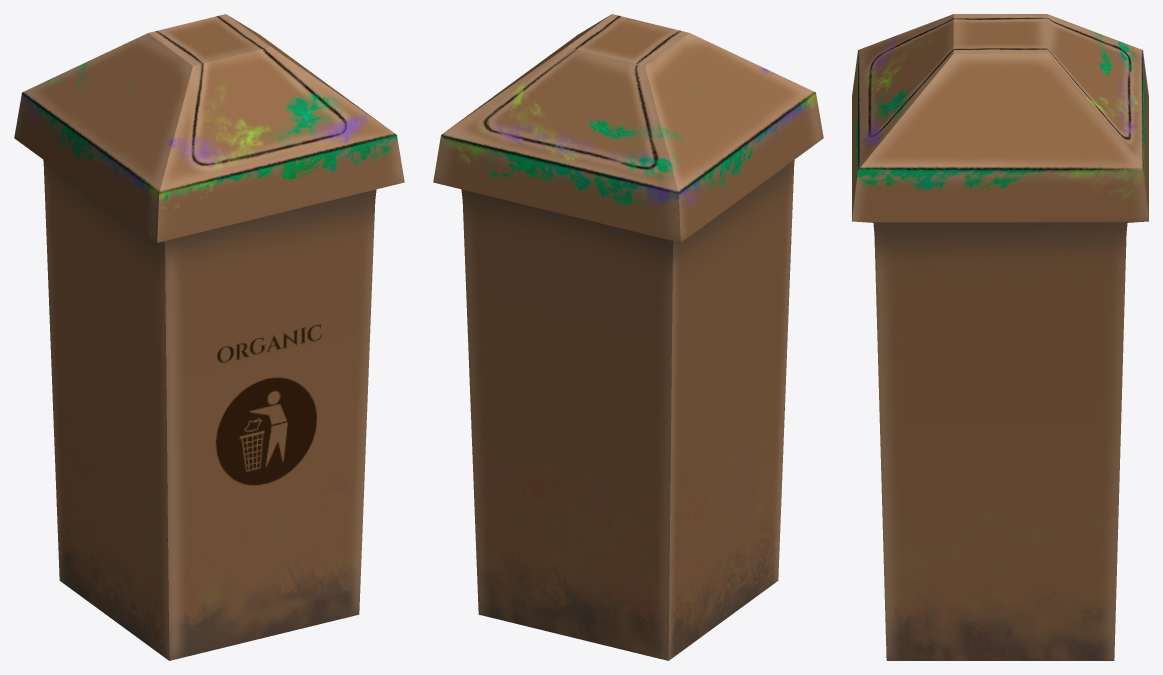
Rendered from lixeira_fbx.fbx.
3 renders of one model, left to right at view 1: azimuth 30°, elevation 25°; view 2: azimuth 150°, elevation 25°; view 3: azimuth 270°, elevation 25°, orthographic. The views are drawn at different scales.
Parts seen in each view (by area): view 1: Box001; view 2: Box001; view 3: Box001.
Part boxes in pixels (box(x1,y1,x2,y2)): Box001: box(14, 14, 404, 660); Box001: box(433, 14, 823, 660); Box001: box(852, 14, 1148, 660).
Bounding box in the file's own units: 58.89 × 127 × 58.89.
Materials: 1 (1 with a texture image).
